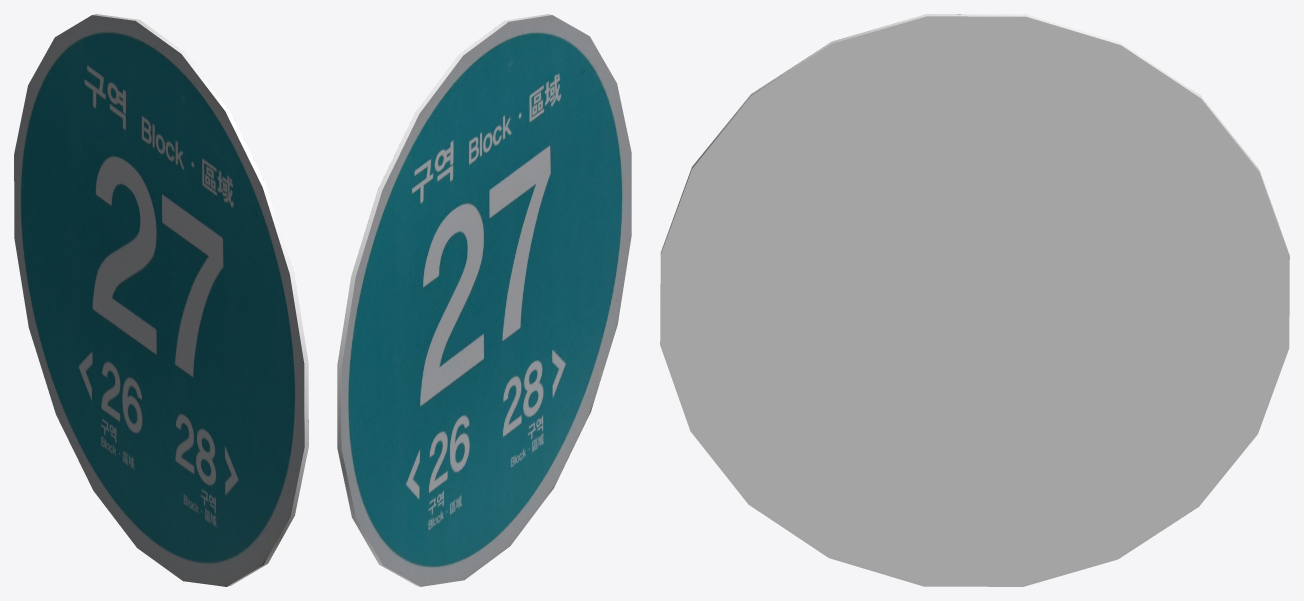
File: SM_010_Seat_2_3.fbx
The picture shows the model from 3 angles, left to right: view 1: azimuth 30°, elevation 25°; view 2: azimuth 150°, elevation 25°; view 3: azimuth 270°, elevation 25°; orthographic projection. The views are drawn at different scales.
Visible parts, largest first — view 1: SM_010_Seat_2_3; view 2: SM_010_Seat_2_3; view 3: SM_010_Seat_2_3.
Part boxes in pixels (x1,y1,x2,y2): SM_010_Seat_2_3: [14, 14, 308, 586]; SM_010_Seat_2_3: [337, 14, 631, 586]; SM_010_Seat_2_3: [660, 14, 1289, 586].
Bounding box in the file's own units: 0.3879 × 44.73 × 44.73.
1 material, 1 textured.
